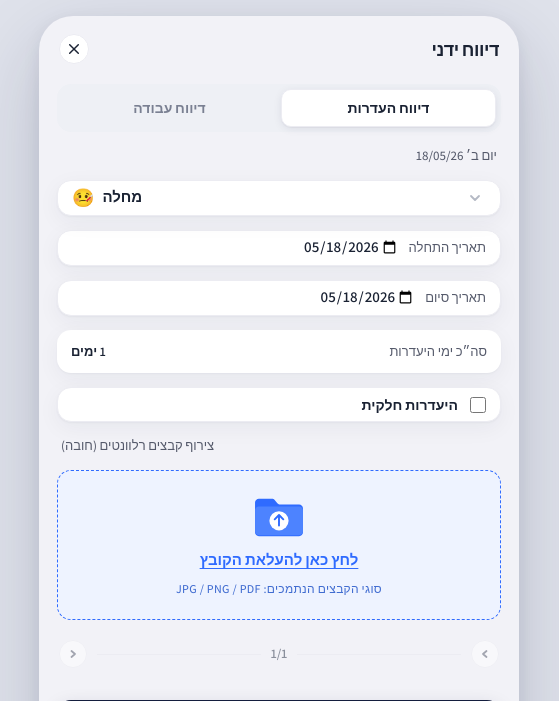
Test case: AbsenceFormPage — inline form › shows partial hours field when partial absence checkbox is checked
expect the text "שעות היעדרות" is not shown: met
Click the checkbox labelled "היעדרות חלקית" at [478, 405], box top-left (470, 397), bottom-right (486, 413)
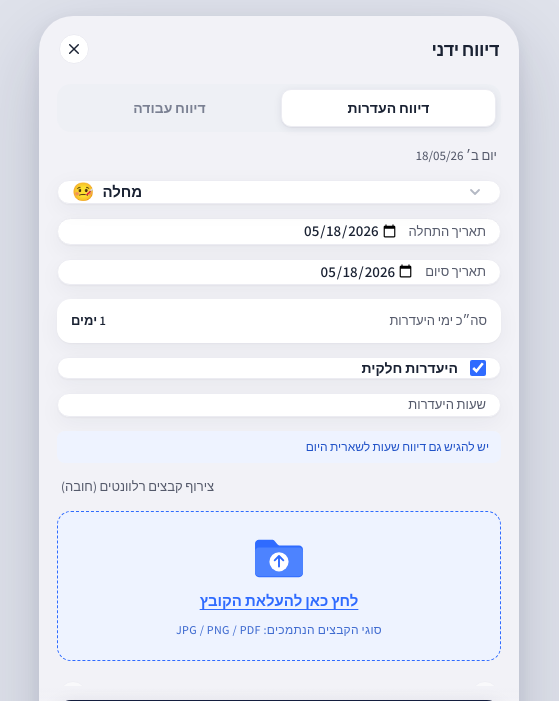
expect the text "שעות היעדרות" is shown: met, box top-left (408, 395), bottom-right (486, 414)
